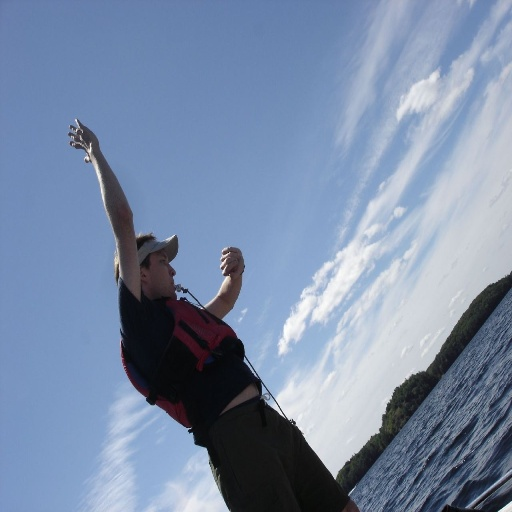hand: (67, 116, 98, 163), (218, 246, 244, 277)
